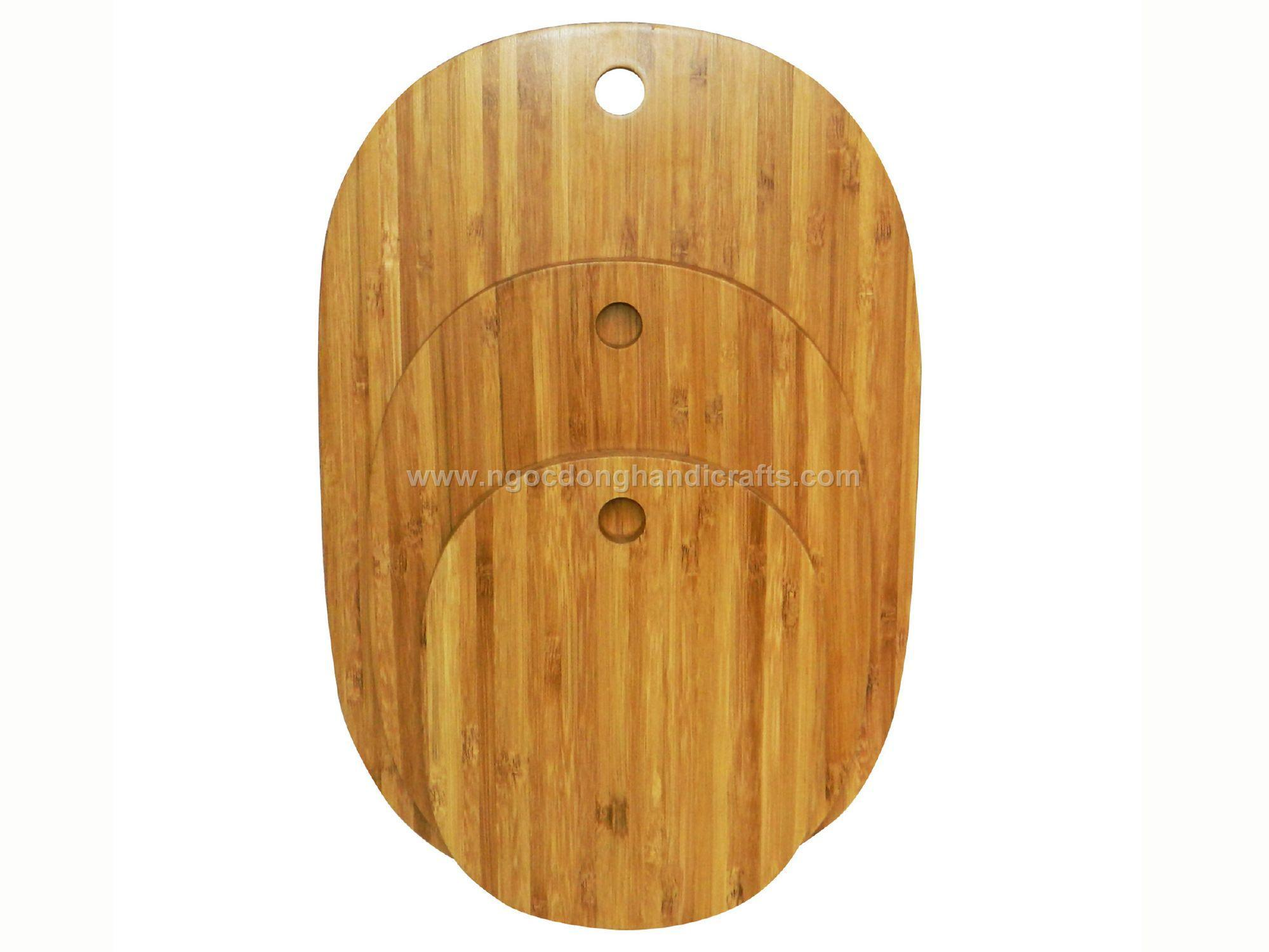gloved_hand: (417, 443, 822, 927)
